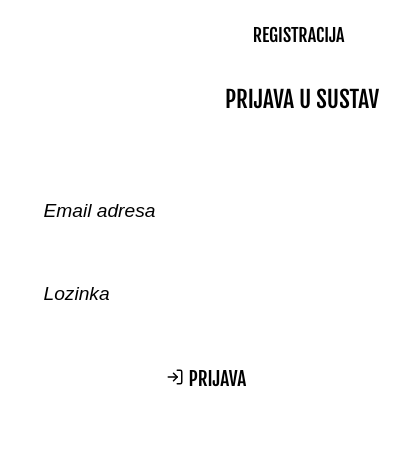
Test: Renderiranje stranice za prijavu/registraciju › ponovnim klikom na dugme promjene modula se prikaz vraca na prijavu
Click the button with class "dugme-modul": (299, 34) [236,17,362,52]
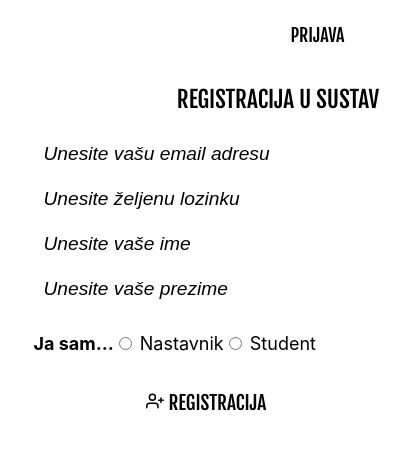
Click the button with class "dugme-modul": (318, 34) [273,17,362,52]
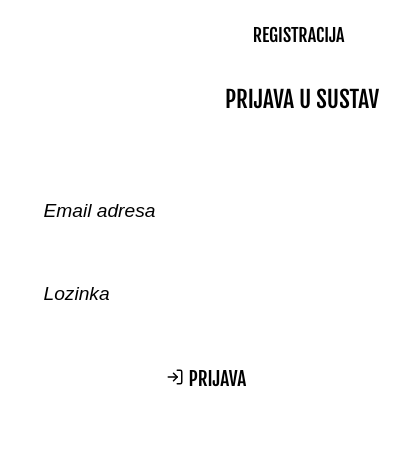
expect the text "Prijava u sustav" is shown: met, box [225,85,379,114]
expect the button with class "dugme-modul" reads "Registracija": met, box [236,17,362,52]
expect the form with class "forma-prijava" is shown: met
